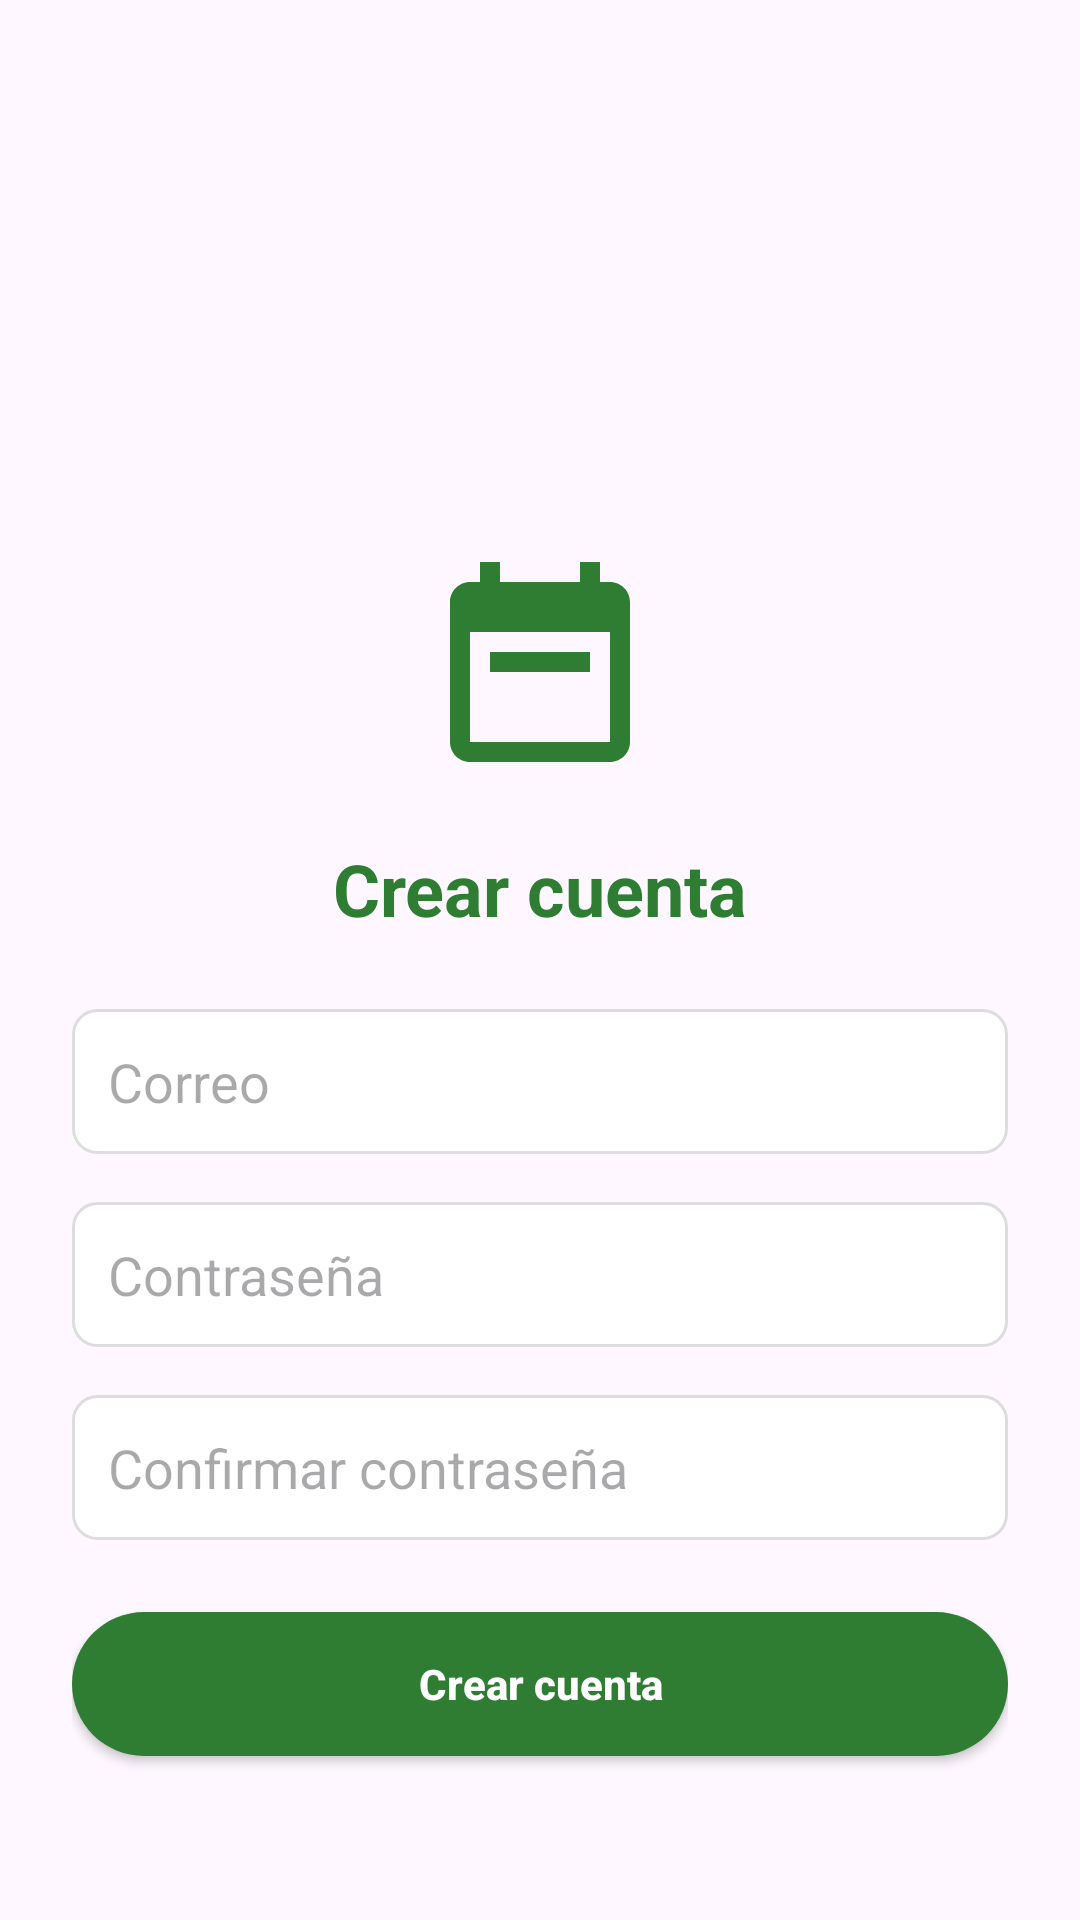

Where icons sit on this 1080 x 1920 app screen, as (x1, y1, x2, y2):
agenda: (450, 562, 630, 762)
